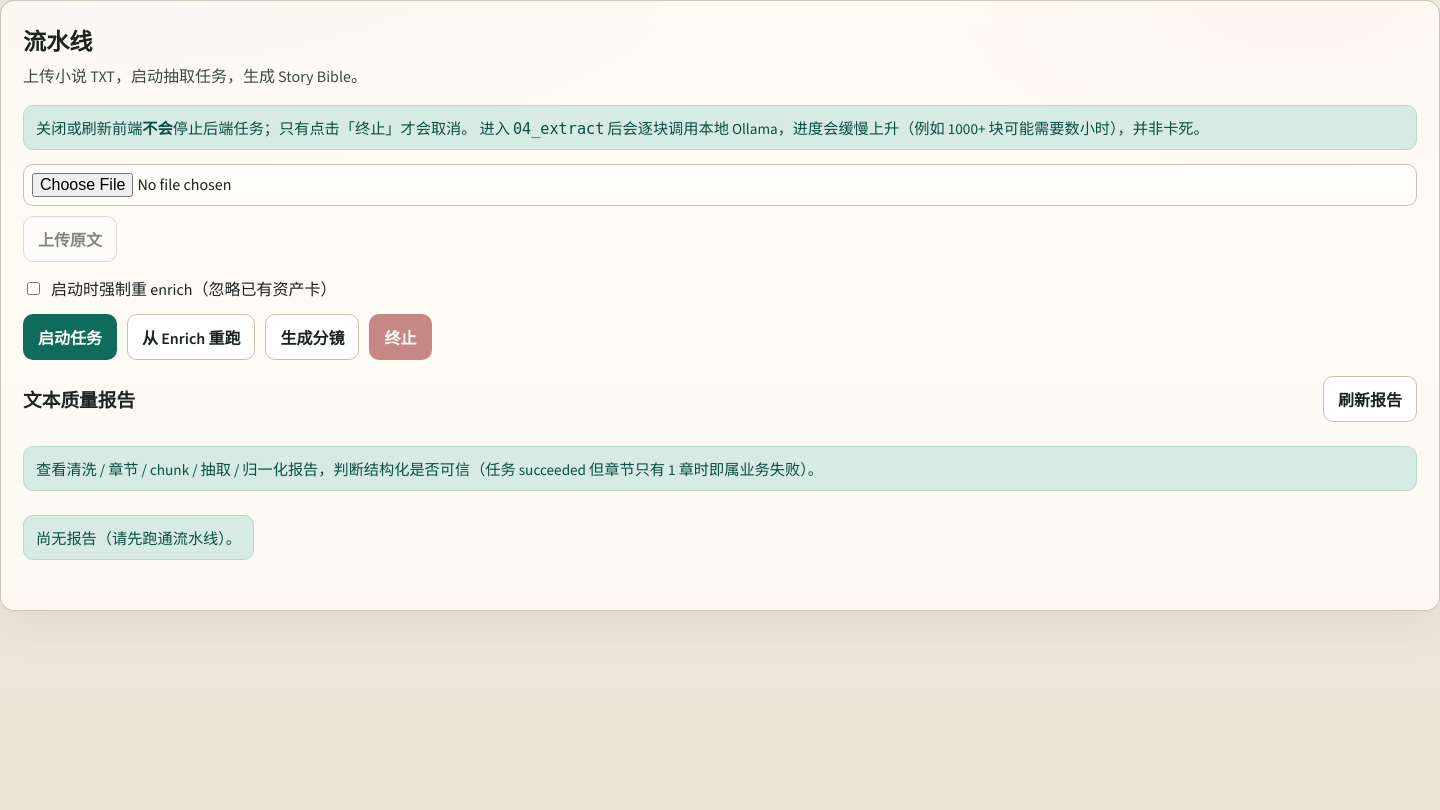
it: PipelinePage › shows text quality reports and opens preview
Expected: the heading "文本质量报告" is shown, [23,385,135,413]
Click the button "刷新报告": coordinates (1370, 399) [1323,376,1417,422]
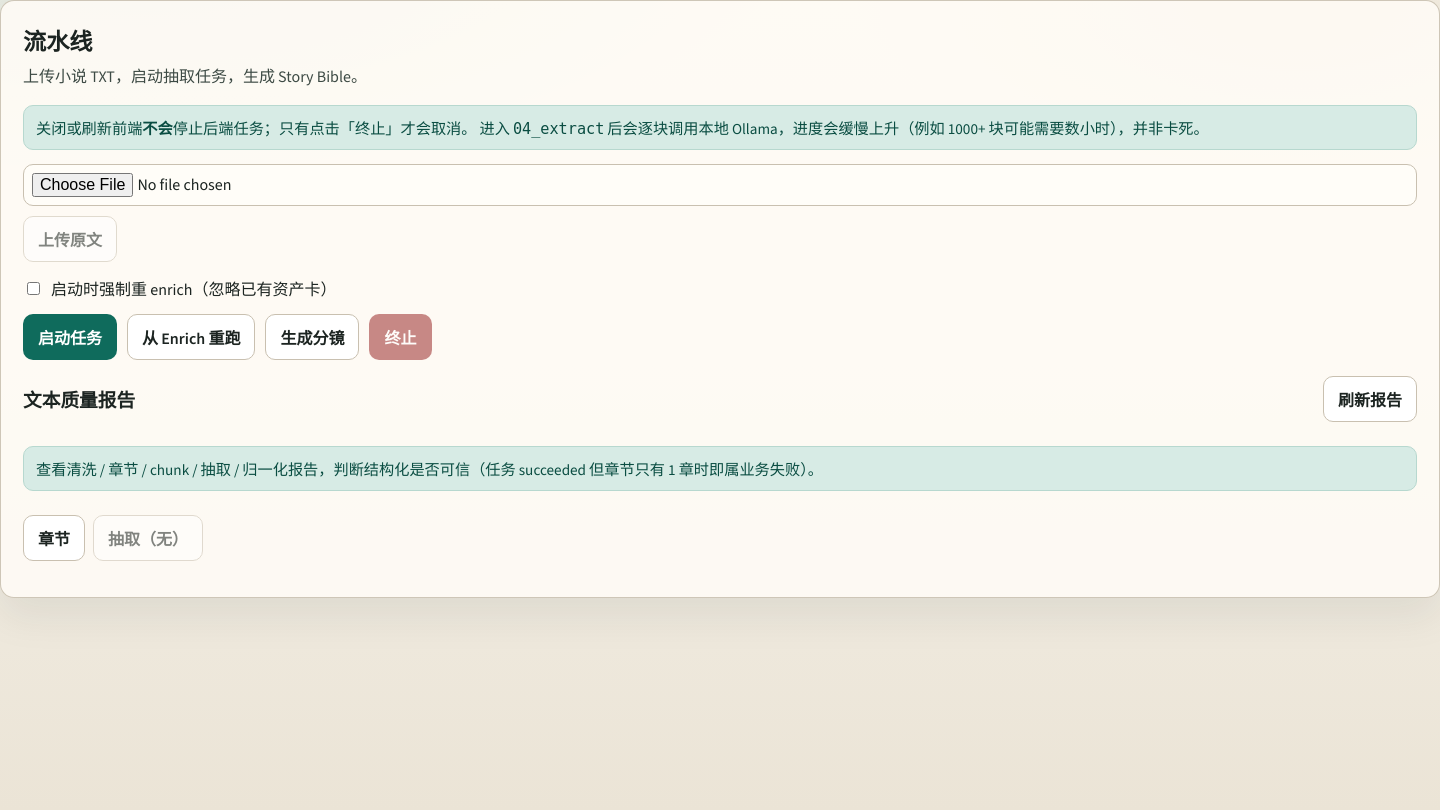
Expected: the button "章节" is enabled
Expected: the button "抽取（无）" is disabled, [93,515,203,561]
Click the button "章节": coordinates (54, 538) [23,515,85,561]
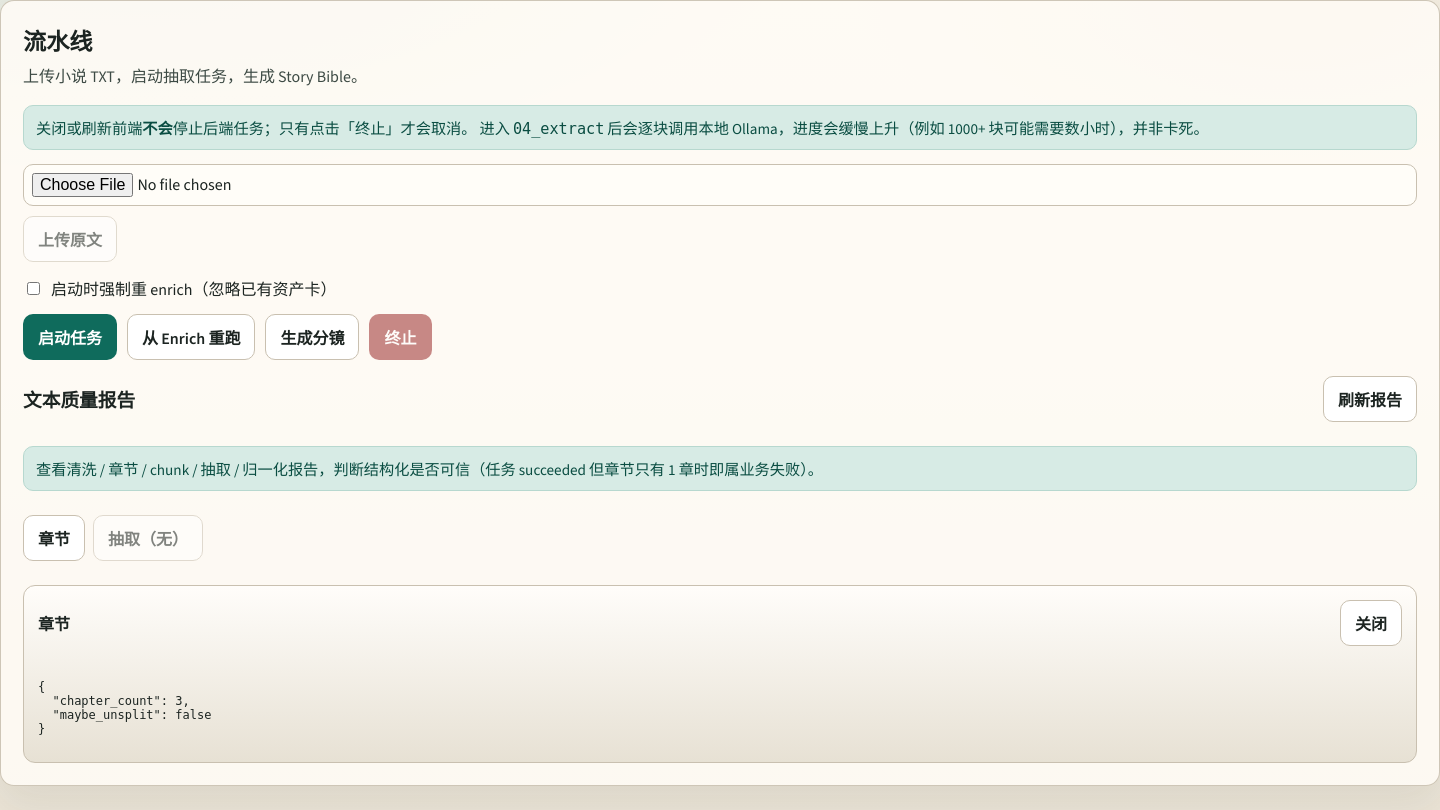
Expected: the text "{ \"chapter_count\": 3, \"maybe_unsplit\": false }" is shown, [38,680,211,736]
